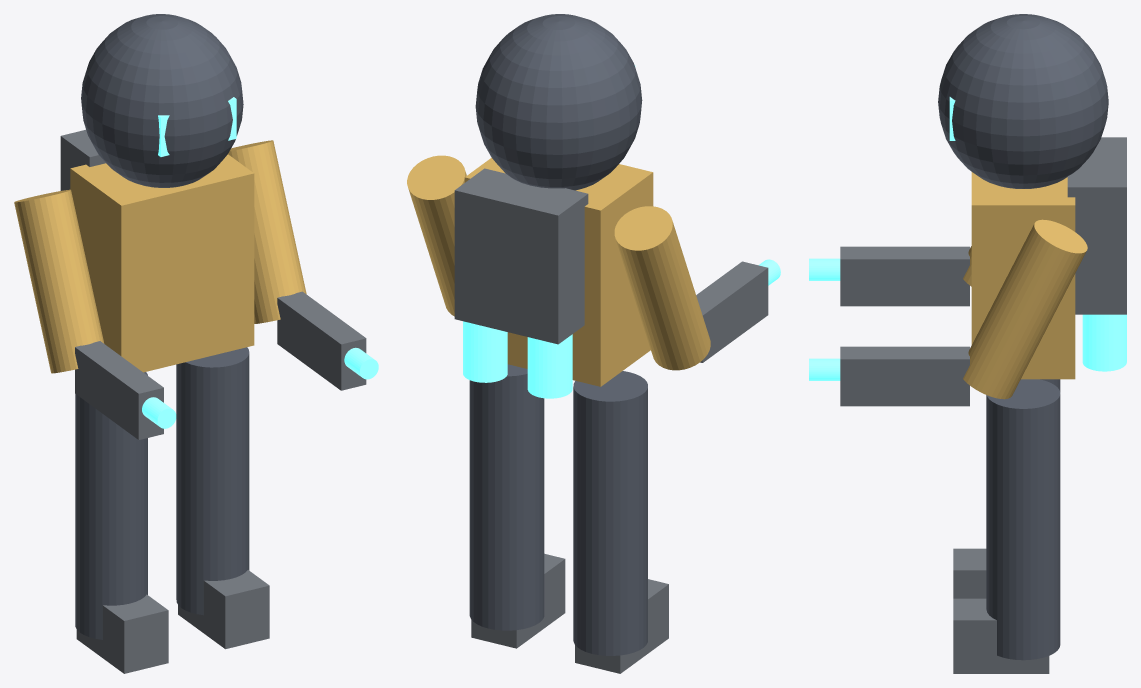
The model's file is commando.glb.
3 views of the same model, side by side, from view 1: azimuth 30°, elevation 25°; view 2: azimuth 150°, elevation 25°; view 3: azimuth 270°, elevation 25° (orthographic). The views are drawn at different scales.
Visible parts, largest first — view 1: Torso, Helmet, Leg_R, Leg_L, Arm_L, Arm_R, Blaster_R, Blaster_L, Boot_L, Boot_R, Jetpack, Muzzle_R (+2 smaller); view 2: Helmet, Leg_L, Jetpack, Leg_R, Torso, Arm_L, Arm_R, Blaster_L, Thruster_L, Boot_R, Thruster_R, Boot_L; view 3: Helmet, Leg_R, Torso, Arm_R, Jetpack, Blaster_L, Blaster_R, Boot_R, Thruster_R, Boot_L, Muzzle_L, Muzzle_R.
Boxes of the visible parts, <box> form: Torso: <box>70,154,254,372</box>; Helmet: <box>81,14,243,187</box>; Leg_R: <box>176,347,249,615</box>; Leg_L: <box>75,372,147,639</box>; Arm_L: <box>14,189,104,373</box>; Arm_R: <box>228,140,306,323</box>; Blaster_R: <box>277,291,366,390</box>; Blaster_L: <box>75,341,163,439</box>; Boot_L: <box>76,594,168,673</box>; Boot_R: <box>178,570,269,649</box>; Jetpack: <box>60,129,105,190</box>; Muzzle_R: <box>344,347,378,379</box>; Helmet: <box>475,14,642,190</box>; Leg_L: <box>573,371,647,655</box>; Jetpack: <box>454,168,588,344</box>; Leg_R: <box>469,364,544,630</box>; Torso: <box>464,157,653,386</box>; Arm_L: <box>614,206,710,370</box>; Arm_R: <box>407,155,466,316</box>; Blaster_L: <box>696,261,768,362</box>; Thruster_L: <box>527,334,572,398</box>; Boot_R: <box>471,553,565,648</box>; Thruster_R: <box>463,321,507,382</box>; Boot_L: <box>575,579,668,673</box>; Helmet: <box>938,14,1108,188</box>; Leg_R: <box>986,379,1060,660</box>; Torso: <box>971,172,1075,379</box>; Arm_R: <box>963,219,1087,399</box>; Jetpack: <box>1067,137,1126,314</box>; Blaster_L: <box>840,246,969,306</box>; Blaster_R: <box>840,346,969,406</box>; Boot_R: <box>953,598,1049,673</box>; Thruster_R: <box>1082,314,1126,371</box>; Boot_L: <box>953,548,986,598</box>; Muzzle_L: <box>809,258,840,280</box>; Muzzle_R: <box>809,358,840,380</box>.
Bounding box in the file's own units: 0.8 × 1.84 × 0.86.
